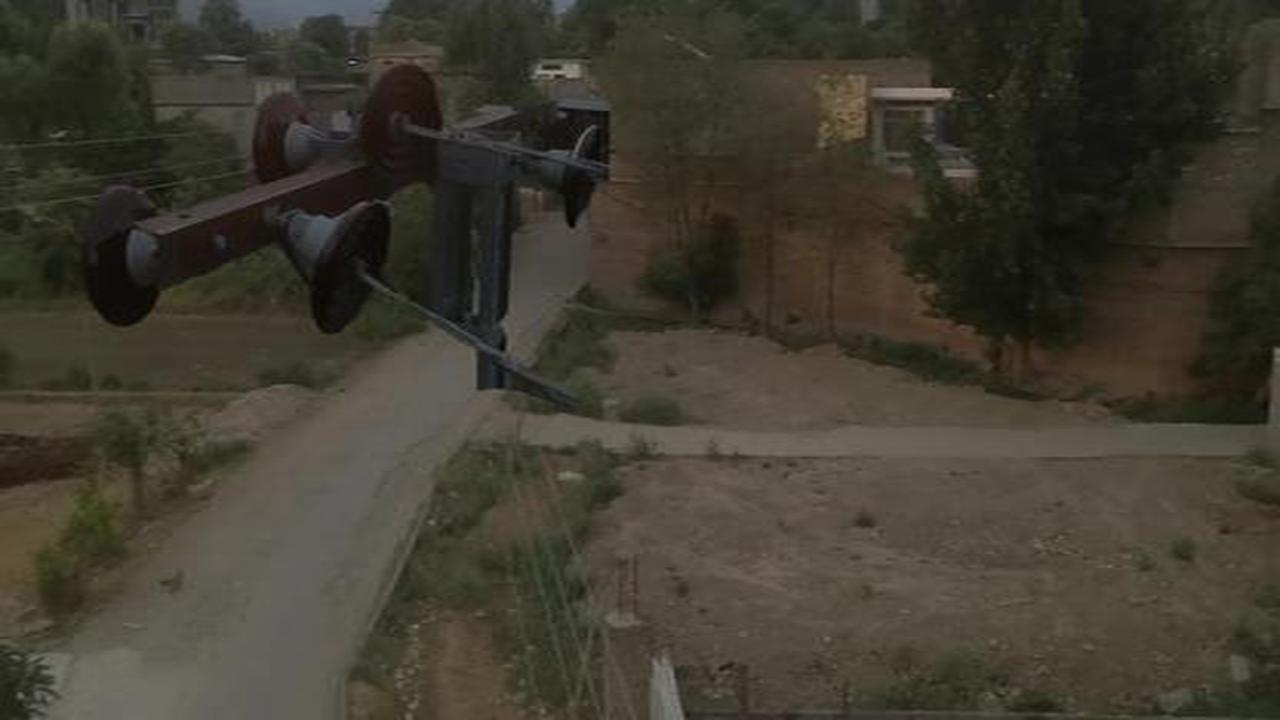insulator_disc: (72, 181, 175, 332), (294, 197, 402, 336), (351, 64, 446, 190), (244, 86, 327, 186), (550, 113, 618, 229)
